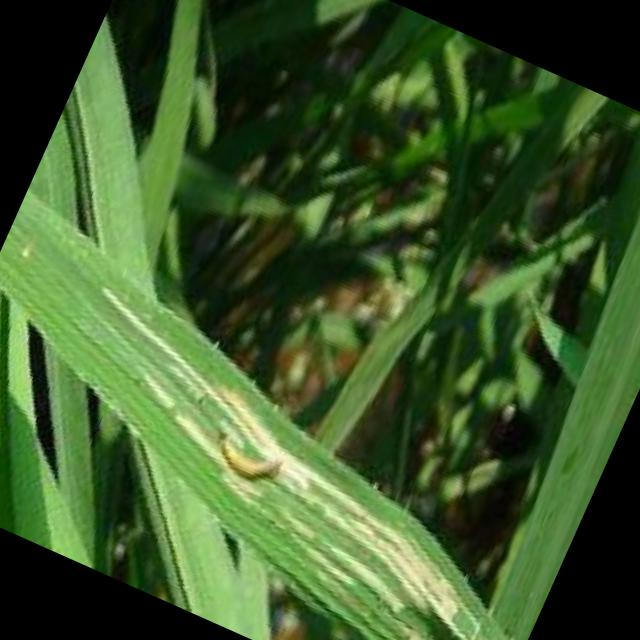leaf-folder: (195, 410, 297, 508)
